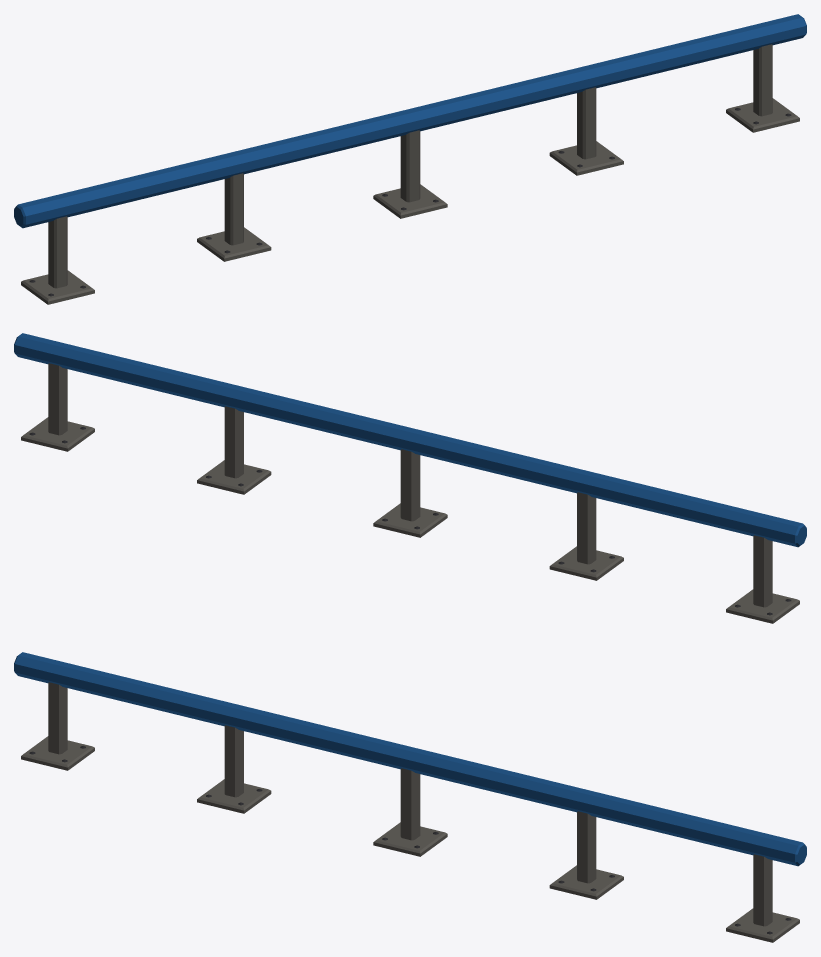
File: steel-skate-rail-8da920.glb
3 views of the same model, one above another, from view 1: azimuth 30°, elevation 25°; view 2: azimuth 150°, elevation 25°; view 3: azimuth 330°, elevation 25° (orthographic).
Parts seen in each view (by area): view 1: rail; view 2: rail; view 3: rail.
Boxes of the visible parts, left/top/right/bottom form: rail: left=14, top=14, right=806, bottom=304; rail: left=14, top=333, right=806, bottom=623; rail: left=14, top=652, right=806, bottom=942.
Size of the model in its own units: 4 by 0.45 by 0.24.
